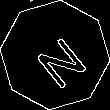N_NW: (24, 23, 86, 87)
